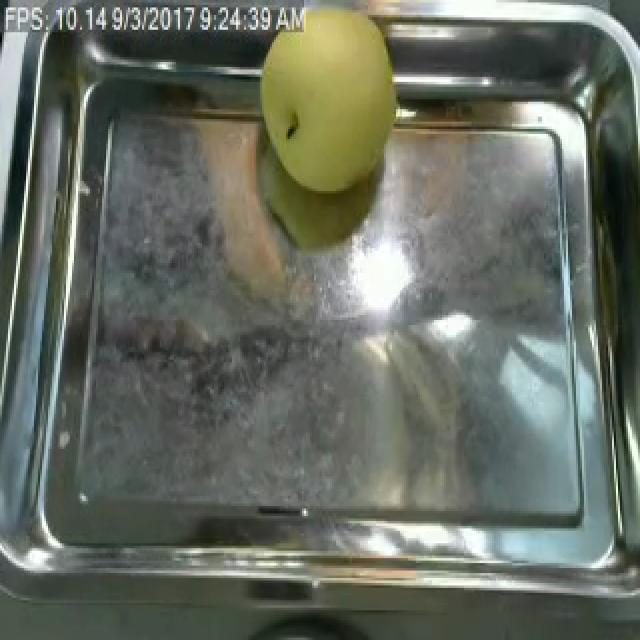Fruit: (250, 0, 412, 203)
